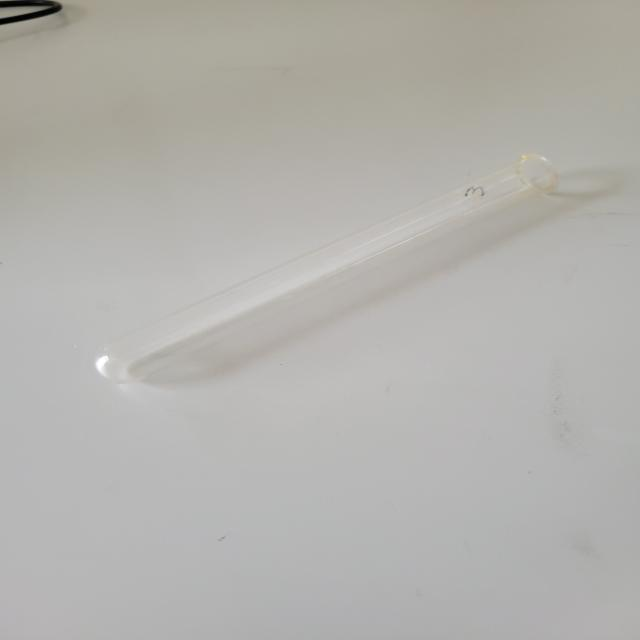Test_Tube: (60, 123, 585, 499)
